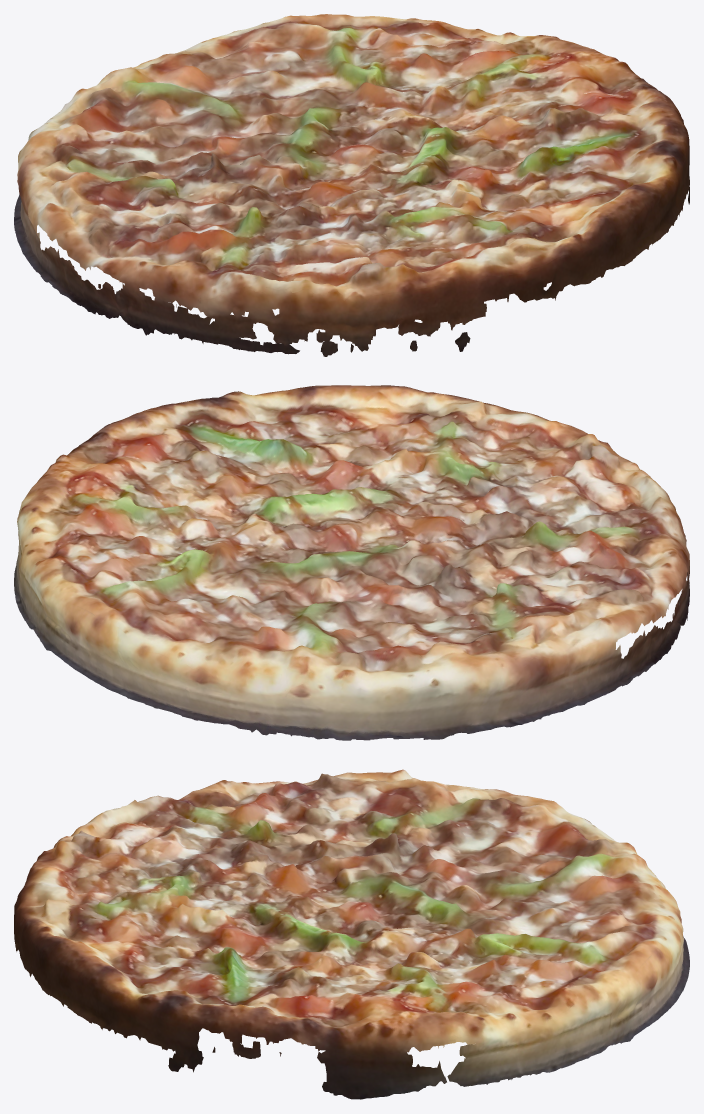
File: pizza_house.glb
The picture shows the model from 3 angles, top to bottom: view 1: azimuth 30°, elevation 25°; view 2: azimuth 150°, elevation 25°; view 3: azimuth 270°, elevation 25°; orthographic projection.
Parts seen in each view (by area): view 1: Object_2; view 2: Object_2; view 3: Object_2.
Boxes of the visible parts, x1,y1,x2,y2 form: Object_2: [14, 14, 689, 356]; Object_2: [14, 385, 689, 740]; Object_2: [14, 769, 689, 1099].
Size of the model in its own units: 0.2501 by 0.0369 by 0.2494.
1 material, 1 textured.
